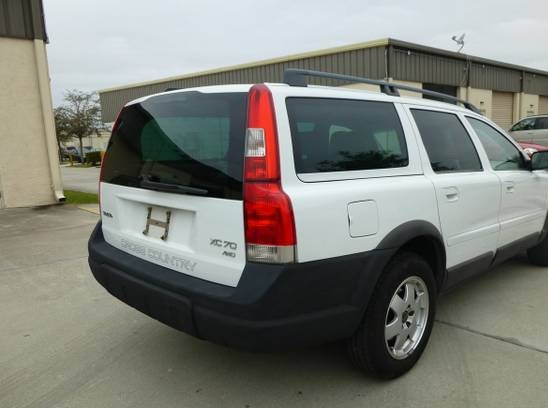volvo: (33, 69, 548, 383)
